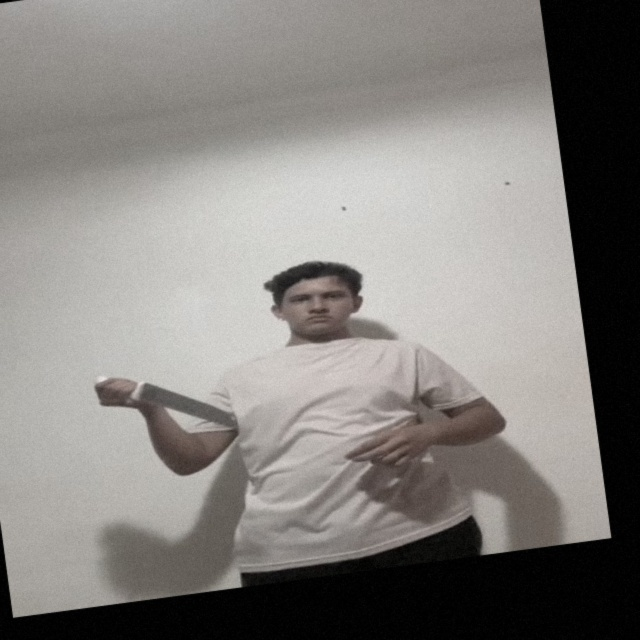Sharp-Object: (138, 370, 226, 434)
